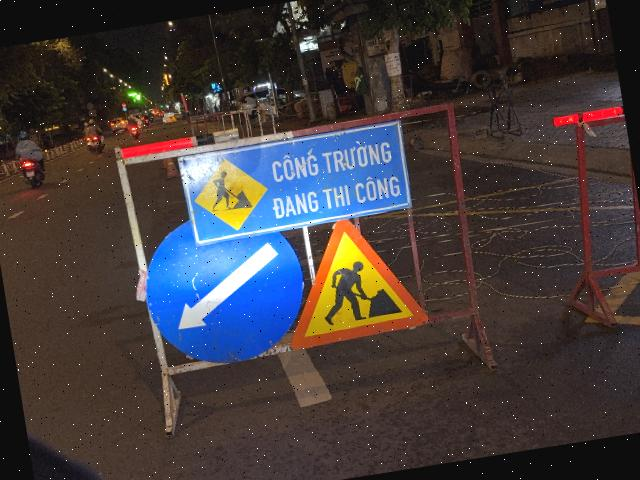cong-truong-dang-thi-cong: (272, 208, 429, 350)
huong-phai-di-vong-chuong-ngai-vat: (136, 203, 314, 375)
